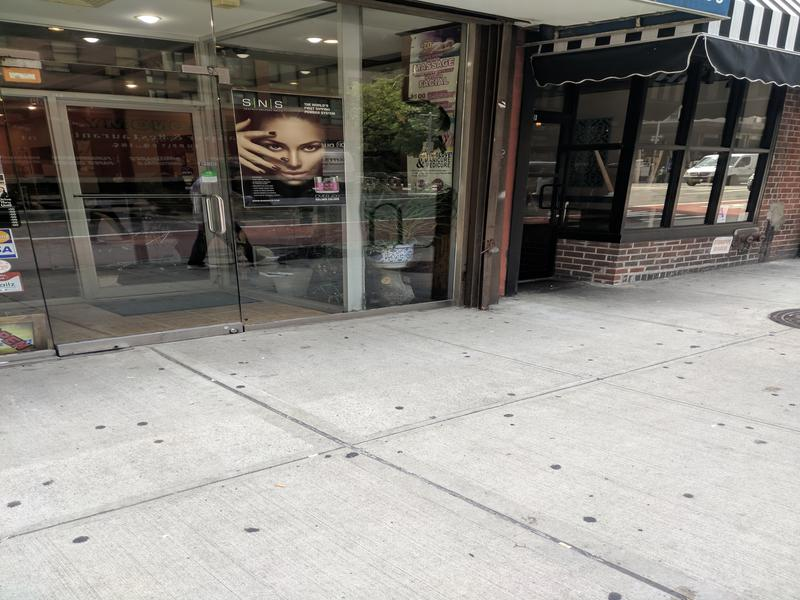door: (3, 32, 259, 350)
